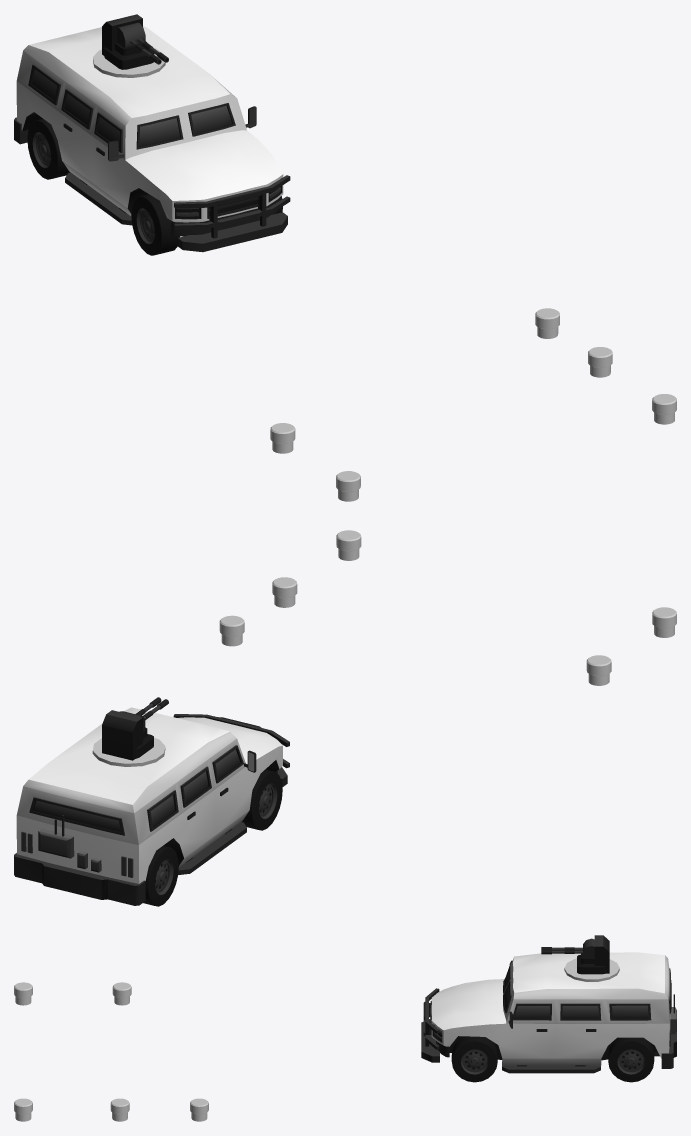
Rendered from changjing3_3.fbx.
3 renders of one model, top to bottom at view 1: azimuth 30°, elevation 25°; view 2: azimuth 150°, elevation 25°; view 3: azimuth 270°, elevation 25°, orthographic. The views are drawn at different scales.
Visible parts, largest first — view 1: ZhanDouSUV01; view 2: ZhanDouSUV01, zhuangzi109, zhuangzi111, zhuangzi107, zhuangzi108, zhuangzi110; view 3: ZhanDouSUV01, zhuangzi107, zhuangzi108, zhuangzi109, zhuangzi110, zhuangzi111.
Part boxes in pixels (x1=…): ZhanDouSUV01: x1=14, y1=14, x2=290, y2=255; ZhanDouSUV01: x1=14, y1=697, x2=289, y2=906; zhuangzi109: x1=336, y1=530, x2=361, y2=560; zhuangzi111: x1=586, y1=655, x2=611, y2=685; zhuangzi107: x1=219, y1=615, x2=244, y2=646; zhuangzi108: x1=272, y1=577, x2=297, y2=607; zhuangzi110: x1=652, y1=607, x2=676, y2=637; ZhanDouSUV01: x1=421, y1=935, x2=676, y2=1082; zhuangzi107: x1=190, y1=1098, x2=208, y2=1121; zhuangzi108: x1=110, y1=1098, x2=129, y2=1121; zhuangzi109: x1=14, y1=1098, x2=32, y2=1121; zhuangzi110: x1=14, y1=982, x2=32, y2=1005; zhuangzi111: x1=112, y1=982, x2=131, y2=1005.
Size of what is drawn, in the model's own units: 1750 by 785 by 3950.
